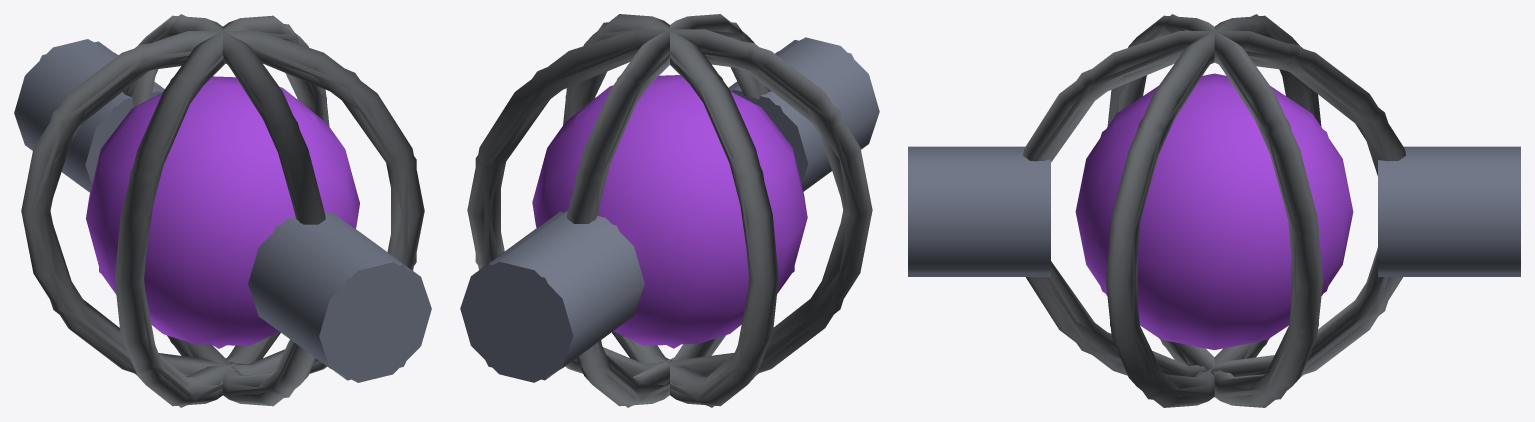
Rendered from grenade.glb.
3 views of the same model, side by side, from view 1: azimuth 30°, elevation 25°; view 2: azimuth 150°, elevation 25°; view 3: azimuth 270°, elevation 25° (orthographic).
Visible parts, largest first — view 1: L0, L1; view 2: L0, L1; view 3: L0, L1.
Boxes of the visible parts, x1,y1,x2,y2 form: L0: (14, 15, 431, 406); L1: (30, 14, 430, 407); L0: (460, 14, 879, 406); L1: (461, 17, 863, 407); L0: (908, 15, 1520, 407); L1: (908, 14, 1520, 399).
Size of the model in its own units: 0.0859 by 0.0982 by 0.15.
